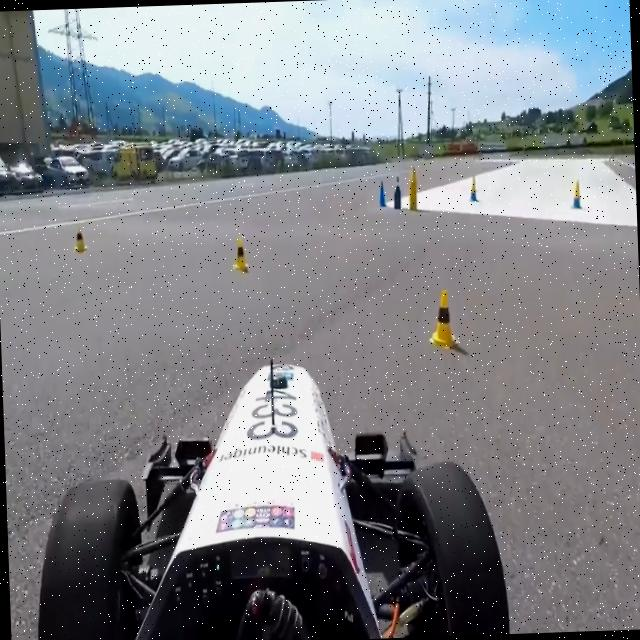yellow_cone: (428, 287, 458, 351), (230, 235, 250, 273), (72, 222, 89, 254)
